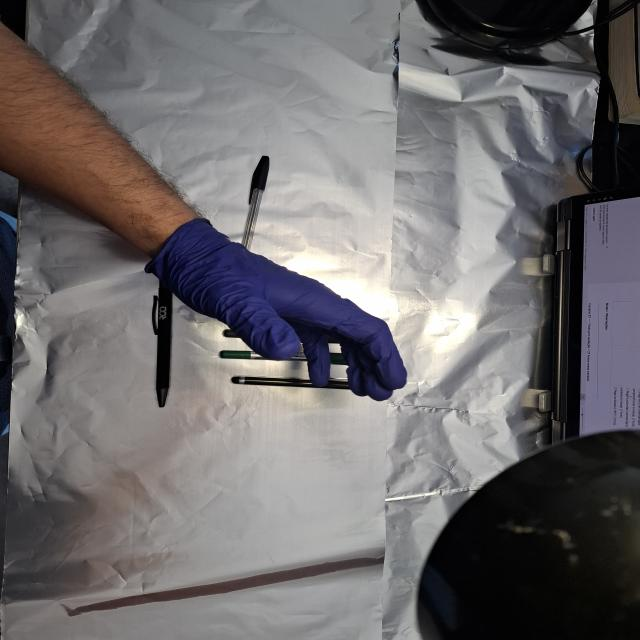glove_on: (141, 215, 410, 407)
